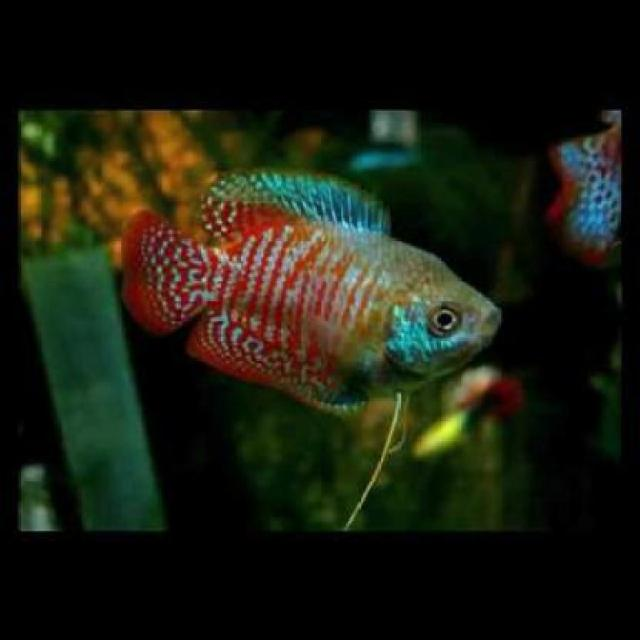Gourami: (120, 169, 495, 409)
